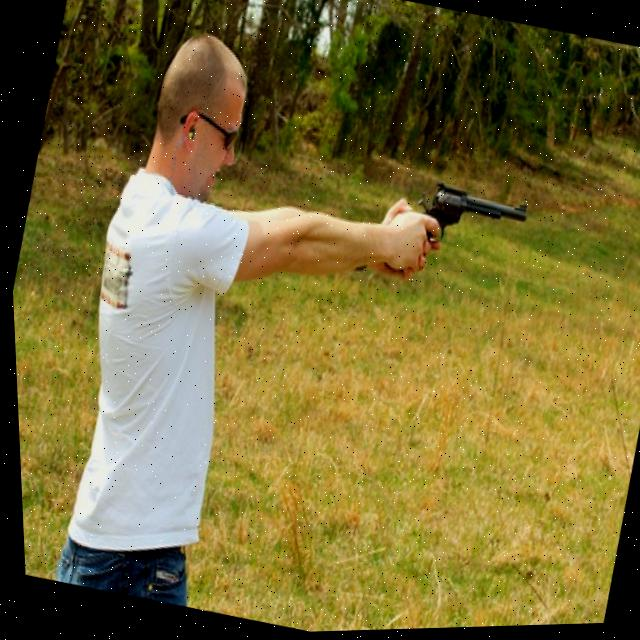pistol: (404, 177, 529, 267)
